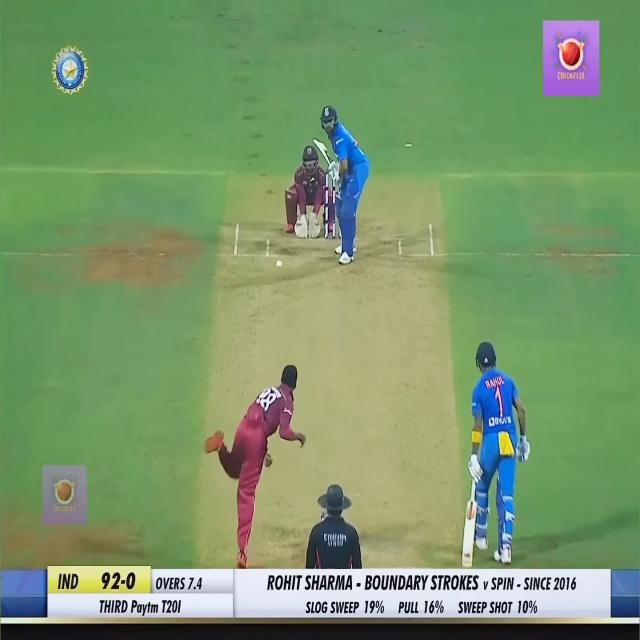fully_visible: (127, 598, 162, 618)
